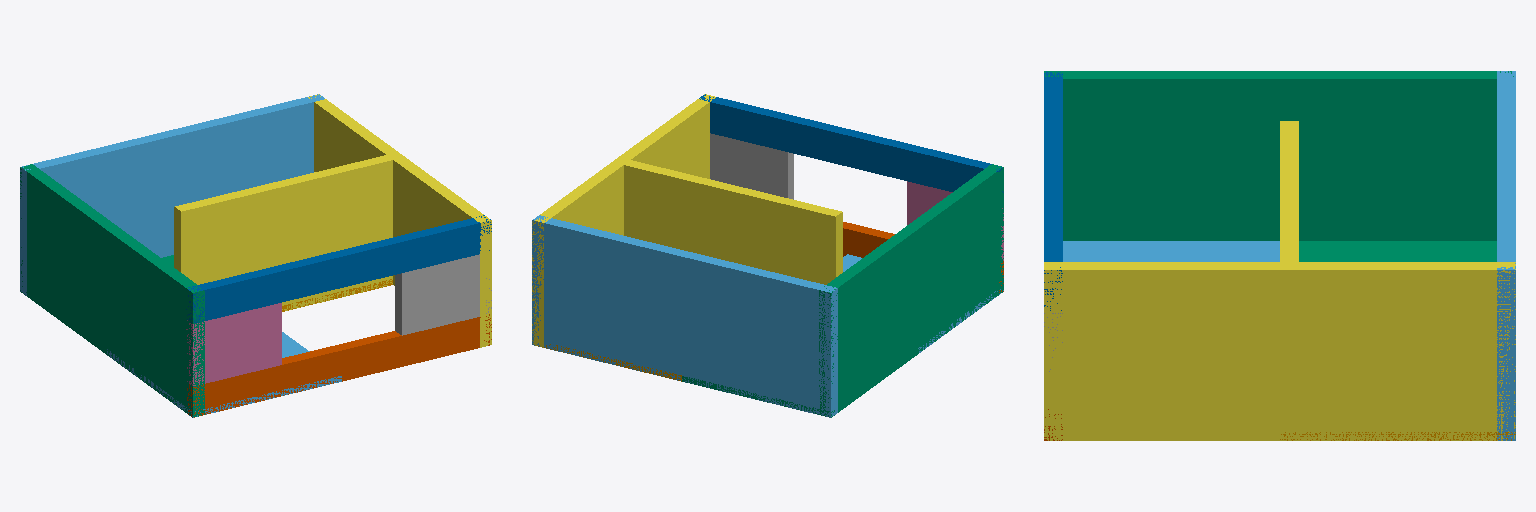
URDF robot description (room):
<?xml version='1.0'?>
<robot name="room">

    <link name="odom">
    </link>

    <material name="white">
        <color rgba="1 1 1 0.75"/>
    </material>

    <!-- Define the wall -->
    <link name='wall1'>
        <!-- Visual representation -->
        <visual name='visual'>
            <geometry>
                <!-- Wall size:-->
                <box size="5 0.2 2"/>
            </geometry>
            <!-- Position the wall at the center of the specified corners -->
            <origin xyz="0 2.4 1" rpy="0 0 0"/>
        </visual>

        <!-- Collision representation -->   
        <collision name='collision'>
            <geometry>
                <!-- Same dimensions as visual -->
                <box size="5 0.2 2"/>
            </geometry>
            <!-- Same position as visual -->
            <origin xyz="0 2.4 1" rpy="0 0 0"/>
        </collision>
        
        <!-- Apply the material -->
        <material name="white"/>
    </link>

    <link name='wall2'>
        <visual name='visual'>
            <geometry>
                <box size="0.2 5 2"/>
            </geometry>
            <origin xyz="-2.4 0 1" rpy="0 0 0"/>
        </visual>
        <collision name='collision'>
            <geometry>
                <box size="0.2 5 2"/>
            </geometry>
            <origin xyz="-2.4 0 1" rpy="0 0 0"/>
        </collision>
        <material name="white"/> 
    </link> 

    <link name='wall3'>
        <visual name='visual'>
            <geometry>
                <box size="0.2 5 2"/>
            </geometry>
            <origin xyz="2.4 0 1" rpy="0 0 0"/>
        </visual>
        <collision name='collision'>
            <geometry>
                <box size="0.2 5 2"/>
            </geometry>
            <origin xyz="2.4 0 1" rpy="0 0 0"/>
        </collision>
        <material name="white"/> 
    </link>  

    <link name='wall4a'>
        <visual name='visual'>
            <geometry>
                <box size="5 0.2 0.5"/>
            </geometry>
            <origin xyz="0 -2.4 1.75" rpy="0 0 0"/>
        </visual>
        <collision name='collision'>
            <geometry>
                <box size="5 0.2 0.5"/>
            </geometry>
            <origin xyz="0 -2.4 1.75" rpy="0 0 0"/>
        </collision>
        <material name="white"/> 
    </link> 

    <link name='wall4b'>
        <visual name='visual'>
            <geometry>
                <box size="5 0.2 0.5"/>
            </geometry>
            <origin xyz="0 -2.4 0.25" rpy="0 0 0"/>
        </visual>
        <collision name='collision'>
            <geometry>
                <box size="5 0.2 0.5"/>
            </geometry>
            <origin xyz="0 -2.4 0.25" rpy="0 0 0"/>
        </collision>
        <material name="white"/> 
    </link> 

    <link name='wall4c'>
        <visual name='visual'>
            <geometry>
                <box size="1.5 0.2 1"/>
            </geometry>
            <origin xyz="-1.75 -2.4 1" rpy="0 0 0"/>
        </visual>
        <collision name='collision'>
            <geometry>
                <box size="1.5 0.2 1"/>
            </geometry>
            <origin xyz="-1.75 -2.4 1" rpy="0 0 0"/>
        </collision>
        <material name="white"/> 
    </link> 


    <link name='wall4d'>
        <visual name='visual'>
            <geometry>
                <box size="1.5 0.2 1"/>
            </geometry>
            <origin xyz="1.75 -2.4 1" rpy="0 0 0"/>
        </visual>
        <collision name='collision'>
            <geometry>
                <box size="1.5 0.2 1"/>
            </geometry>
            <origin xyz="1.75 -2.4 1" rpy="0 0 0"/>
        </collision>
        <material name="white"/> 
    </link> 

    <link name='ground1'>
        <visual name='visual'>
            <geometry>
                <box size="2.5 2.5 0.1"/>
            </geometry>
            <origin xyz="1.25 1.25 0.05" rpy="0 0 0"/>
        </visual>
        <collision name='collision'>
            <geometry>
                <box size="2.5 2.5 0.1"/>
            </geometry>
            <origin xyz="1.25 1.25 0.05" rpy="0 0 0"/>
        </collision>
        <material name="white"/> 
    </link> 

    <link name='ground2'>
        <visual name='visual'>
            <geometry>
                <box size="2.5 2.5 0.1"/>
            </geometry>
            <origin xyz="-1.25 -1.25 0.05" rpy="0 0 0"/>
        </visual>
        <collision name='collision'>
            <geometry>
                <box size="2.5 2.5 0.1"/>
            </geometry>
            <origin xyz="-1.25 -1.25 0.05" rpy="0 0 0"/>
        </collision>
        <material name="white"/> 
    </link> 

    <link name='ground3'>
        <visual name='visual'>
            <geometry>
                <box size="2.5 2.5 0.1"/>
            </geometry>
            <origin xyz="-1.25 1.25 0.05" rpy="0 0 0"/>
        </visual>
        <collision name='collision'>
            <geometry>
                <box size="2.5 2.5 0.1"/>
            </geometry>
            <origin xyz="-1.25 1.25 0.05" rpy="0 0 0"/>
        </collision>
        <material name="white"/> 
    </link> 

    <link name='wall5'>
        <visual name='visual'>
            <geometry>
                <box size="3.75 0.2 2"/>
            </geometry>
            <origin xyz="0.625 0.1 1" rpy="0 0 0"/>
        </visual>
        <collision name='collision'>
            <geometry>
                <box size="3.75 0.2 2"/>
            </geometry>
            <origin xyz="0.625 0.1 1" rpy="0 0 0"/>
        </collision>
        <material name="white"/> 
    </link> 

    <joint name="wall1" type="fixed">
		<parent link="odom"/>
 	    <child link="wall1"/>
    </joint>
    
    <joint name="wall2" type="fixed">
        <parent link="odom"/>       
        <child link="wall2"/>
    </joint>

    <joint name="wall3" type="fixed">
        <parent link="odom"/>       
        <child link="wall3"/>
    </joint>

    <joint name="wall4a" type="fixed">
        <parent link="odom"/>       
        <child link="wall4a"/>
    </joint>

    <joint name="wall4b" type="fixed">
        <parent link="odom"/>       
        <child link="wall4b"/>
    </joint>

    <joint name="wall4c" type="fixed">
        <parent link="odom"/>       
        <child link="wall4c"/>
    </joint>

    <joint name="wall4d" type="fixed">
        <parent link="odom"/>       
        <child link="wall4d"/>
    </joint>

    <joint name="ground1" type="fixed">
        <parent link="odom"/>       
        <child link="ground1"/>
    </joint>

    <joint name="ground2" type="fixed">
        <parent link="odom"/>       
        <child link="ground2"/>
    </joint>

    <joint name="ground3" type="fixed">
        <parent link="odom"/>       
        <child link="ground3"/>
    </joint>

    <joint name="wall5" type="fixed">
        <parent link="odom"/>       
        <child link="wall5"/>
    </joint>


</robot>

--- Facts derived from the render (not from the file) ---
3 views of the same robot in one strip: view 1: azimuth 30°, elevation 25°; view 2: azimuth 150°, elevation 25°; view 3: azimuth 270°, elevation 25° (orthographic).
Robot: room — 12 links, 11 joints (11 fixed); root link odom; default pose: all joints at 0.
Visible links, largest first — view 1: wall2, wall1, wall5, wall4a, wall4b, wall3, wall4d, wall4c, ground2; view 2: wall1, wall2, wall5, wall4a, wall3, wall4d, wall4b, wall4c, ground3; view 3: wall3, wall2, wall1, ground2, ground3, wall4a, wall5.
Boxes of the visible links, x1=… form: wall2: x1=20, y1=164, x2=204, y2=417; wall1: x1=20, y1=94, x2=324, y2=295; wall5: x1=174, y1=152, x2=404, y2=310; wall4a: x1=186, y1=215, x2=491, y2=322; wall4b: x1=187, y1=314, x2=491, y2=417; wall3: x1=308, y1=94, x2=491, y2=347; wall4d: x1=395, y1=254, x2=491, y2=335; wall4c: x1=186, y1=303, x2=281, y2=385; ground2: x1=107, y1=332, x2=341, y2=417; wall1: x1=532, y1=215, x2=837, y2=417; wall2: x1=819, y1=164, x2=1003, y2=416; wall5: x1=613, y1=158, x2=842, y2=284; wall4a: x1=699, y1=94, x2=1003, y2=192; wall3: x1=532, y1=94, x2=715, y2=347; wall4d: x1=710, y1=133, x2=793, y2=199; wall4b: x1=843, y1=222, x2=1003, y2=292; wall4c: x1=907, y1=181, x2=1003, y2=260; ground3: x1=682, y1=350, x2=916, y2=417; wall3: x1=1044, y1=262, x2=1515, y2=440; wall2: x1=1044, y1=71, x2=1513, y2=240; wall1: x1=1497, y1=71, x2=1515, y2=440; ground2: x1=1063, y1=241, x2=1279, y2=261; ground3: x1=1299, y1=241, x2=1496, y2=261; wall4a: x1=1044, y1=71, x2=1062, y2=310; wall5: x1=1280, y1=121, x2=1298, y2=440.
Bounding box of the posed robot: 5 × 5 × 2 m (x, y, z).
Geometry: primitives only (box / cylinder / sphere), no mesh files.
